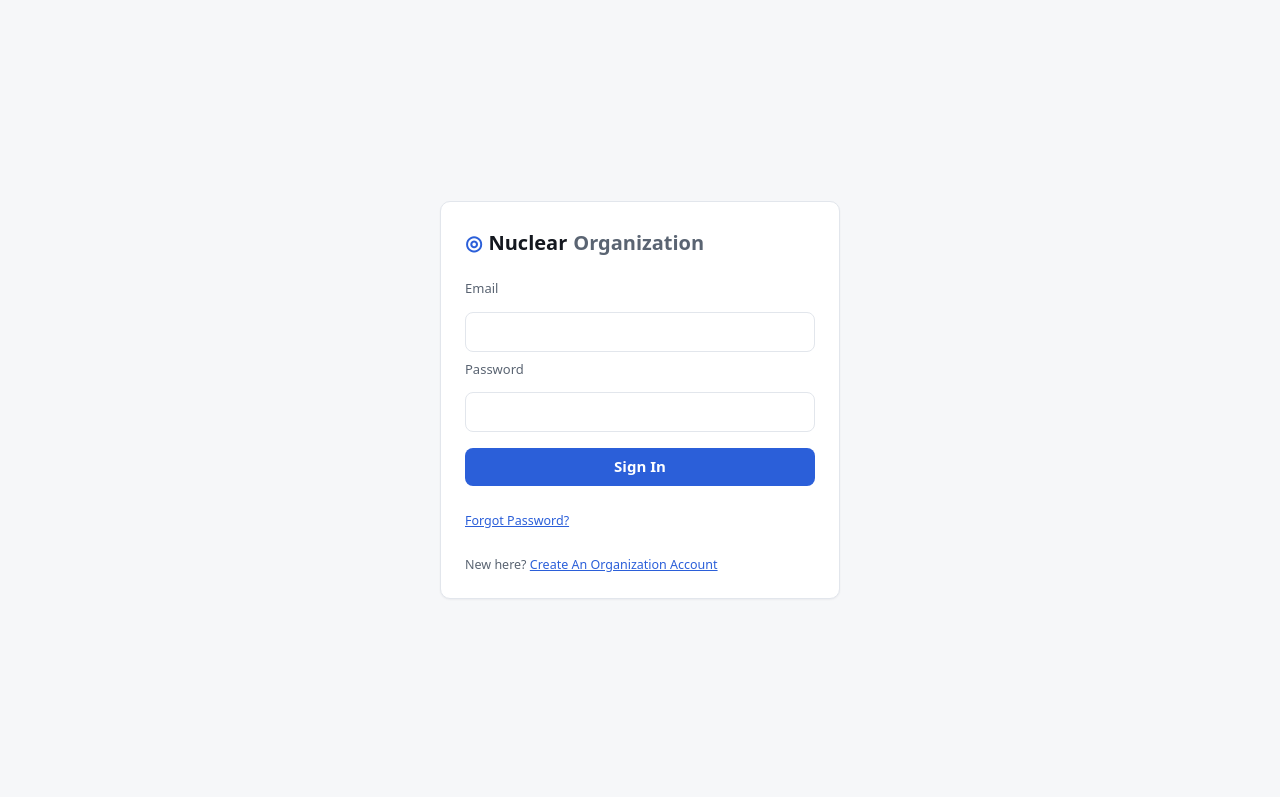
Test: organization portal › shows the organization profile: details, documents and sessions, read-only until Edit
In the field labelled "Email": (640, 332) top-left (465, 312), bottom-right (815, 352), type "HR@Acme.test"
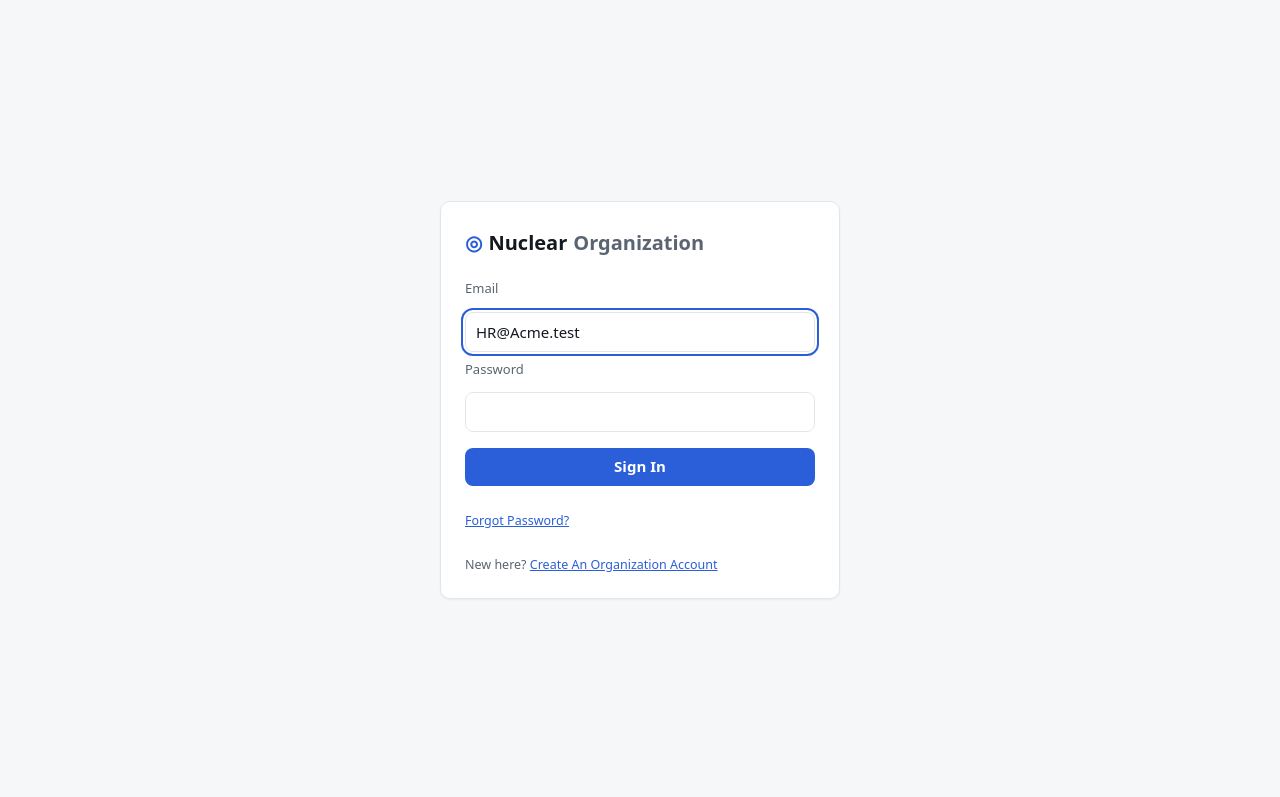
In the password field labelled "Password": (640, 412) top-left (465, 392), bottom-right (815, 432), type "correct horse battery"
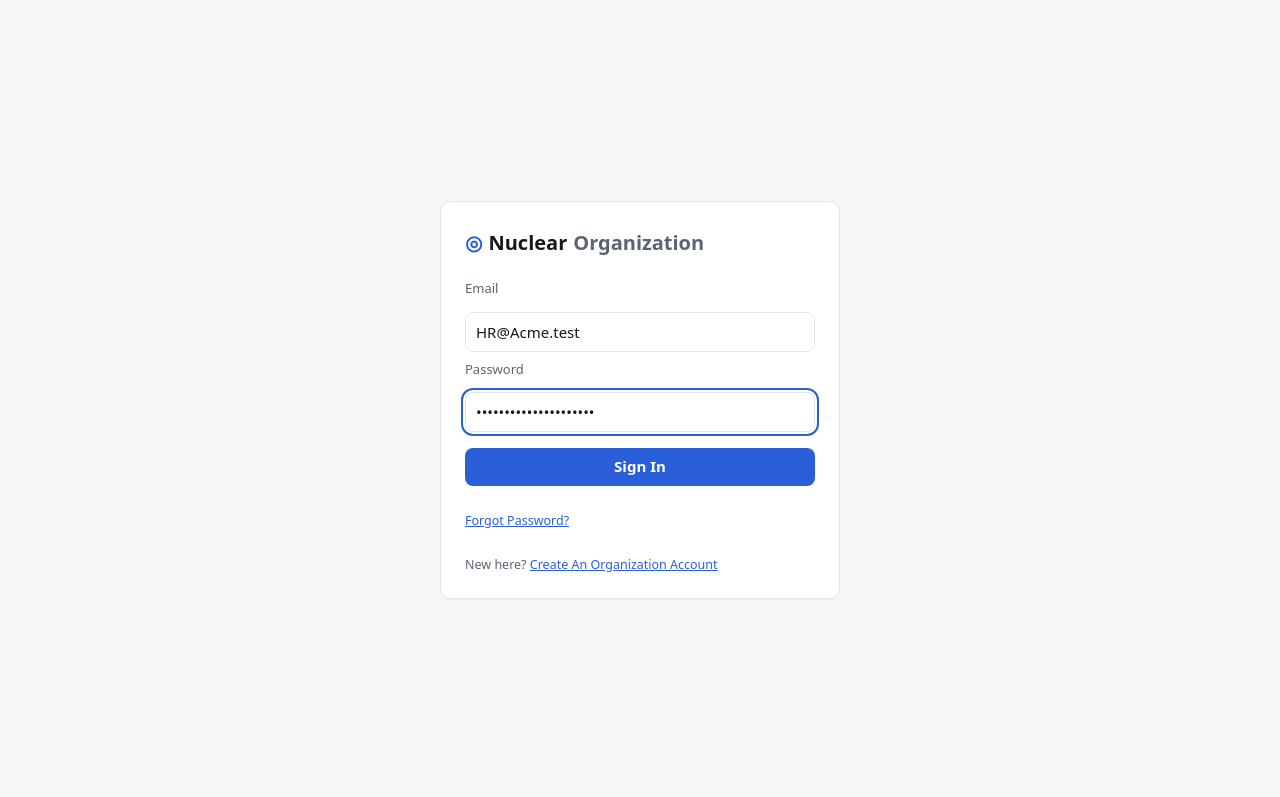
Click the button "Sign In": (640, 467) top-left (465, 448), bottom-right (815, 486)
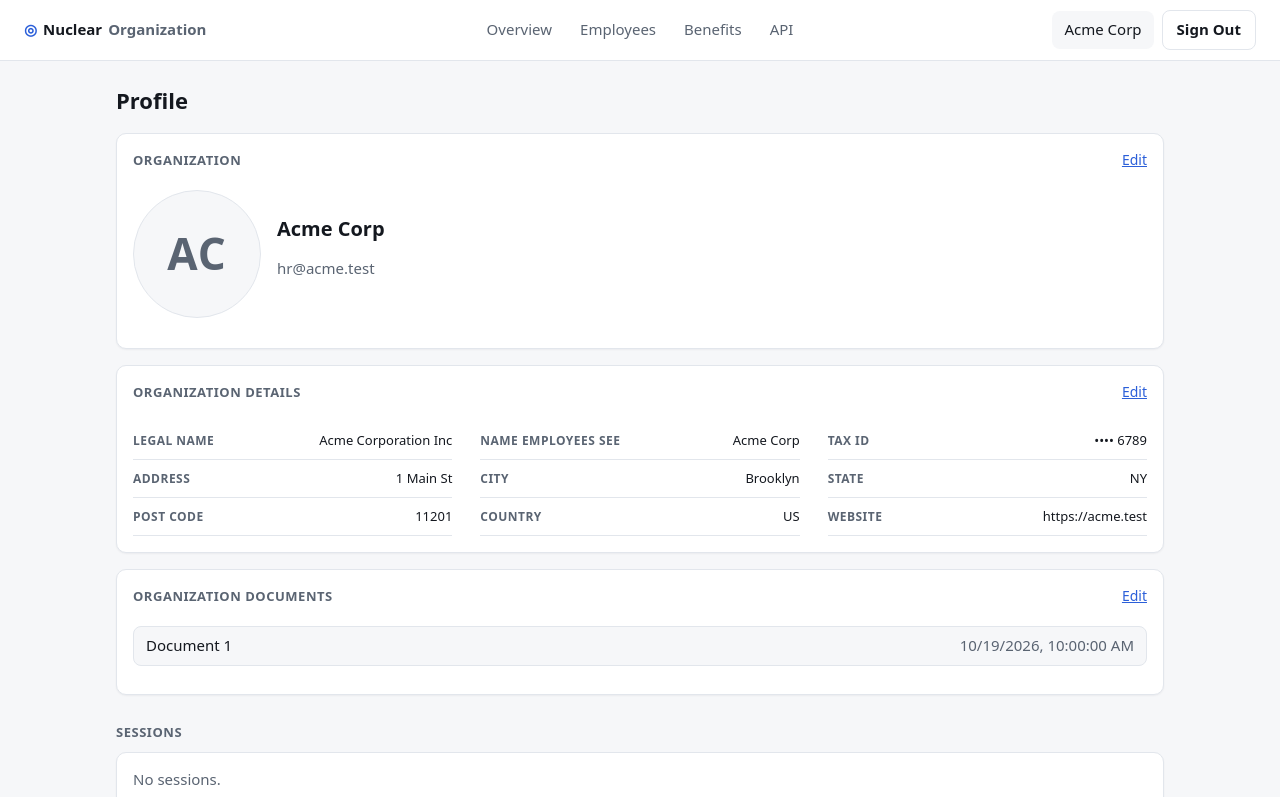
Result: the text "Document 1" is shown at top-left (146, 635), bottom-right (232, 657)
Result: the element named "Organization details" shows "Acme Corporation Inc" at top-left (319, 431), bottom-right (452, 449)
Result: the element named "Organization details" shows "•••• 6789" at top-left (1094, 431), bottom-right (1147, 449)
Click the button "Edit" in the row of "Organization Details": (1134, 392) top-left (1122, 382), bottom-right (1147, 402)
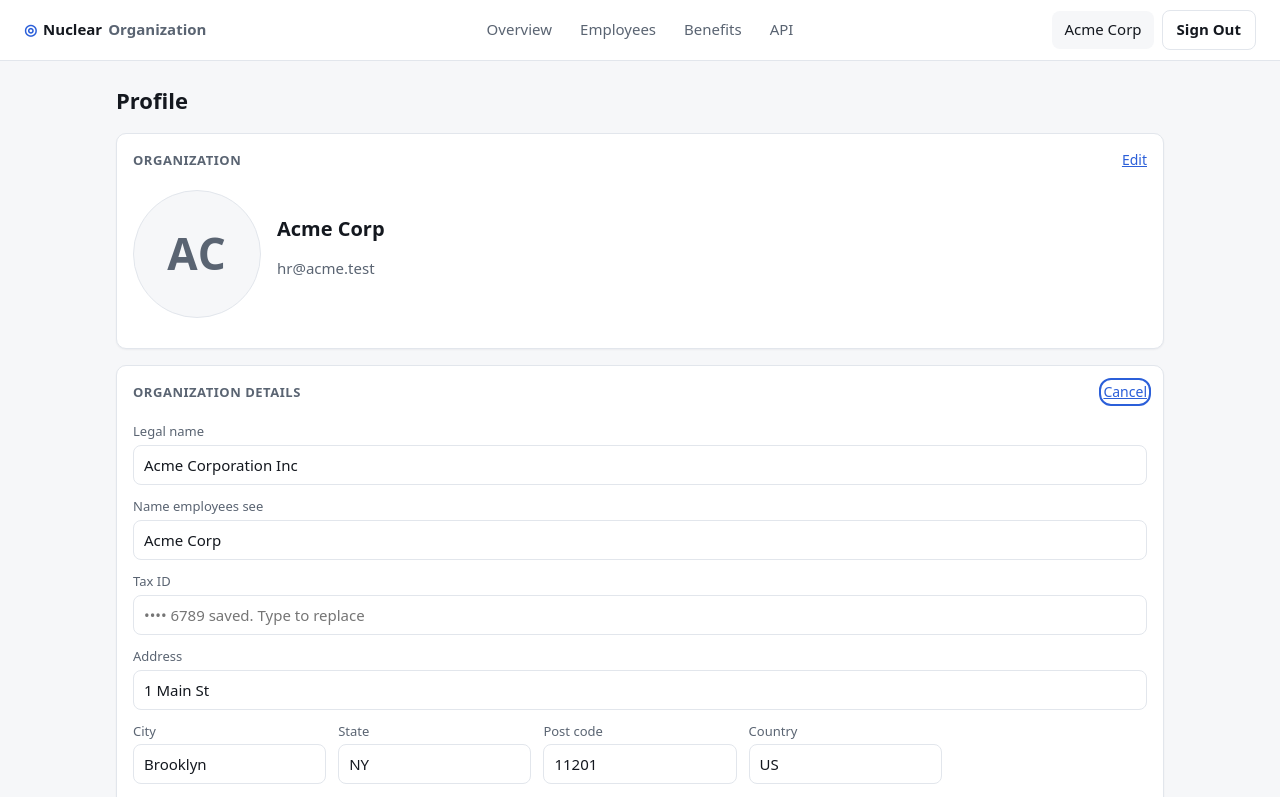
Result: the field labelled "Legal name" holds "Acme Corporation Inc" at top-left (133, 445), bottom-right (1147, 485)
